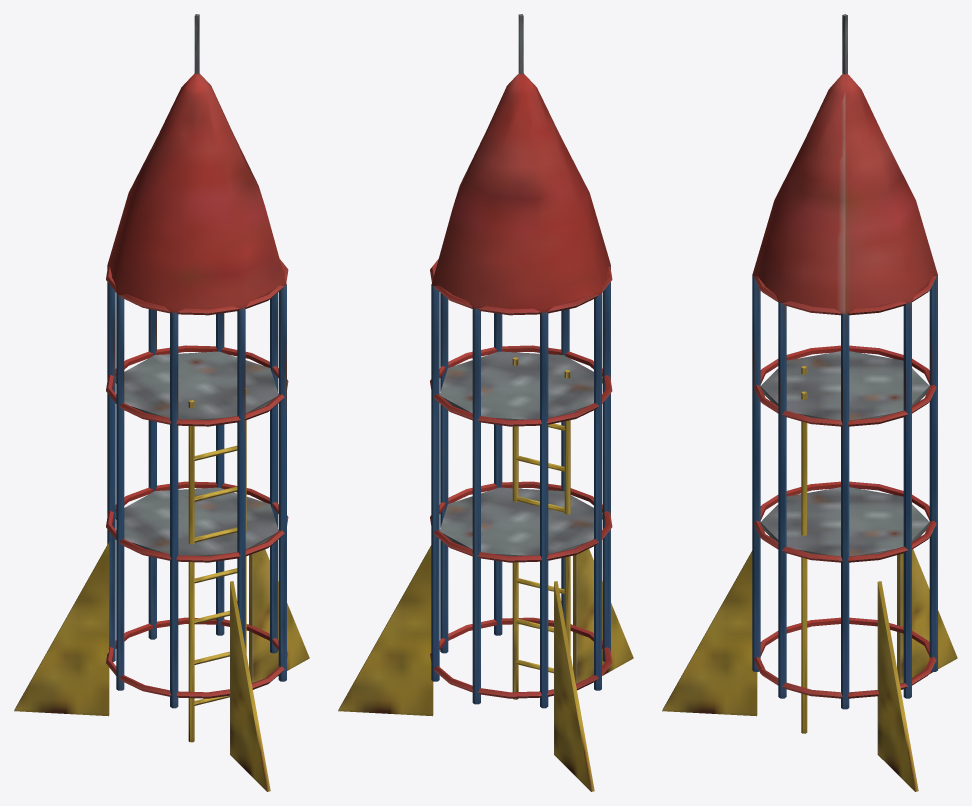
The model's file is rocket.fbx.
The picture shows the model from 3 angles, left to right: view 1: azimuth 30°, elevation 25°; view 2: azimuth 150°, elevation 25°; view 3: azimuth 270°, elevation 25°; orthographic projection.
Visible parts, largest first — view 1: rocket; view 2: rocket; view 3: rocket.
Part boxes in pixels (left/top/right/bottom): rocket: left=14, top=14, right=309, bottom=791; rocket: left=338, top=14, right=633, bottom=791; rocket: left=662, top=14, right=957, bottom=791.
Size of the model in its own units: 2.34 by 5.7 by 2.17.
